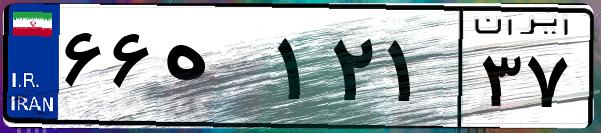1: (270, 28, 330, 110), (385, 28, 445, 110)
2: (330, 28, 385, 110)
3: (475, 38, 525, 113)
6: (57, 26, 110, 100), (110, 28, 158, 98)
7: (525, 38, 570, 115)
ه: (158, 20, 270, 120)
